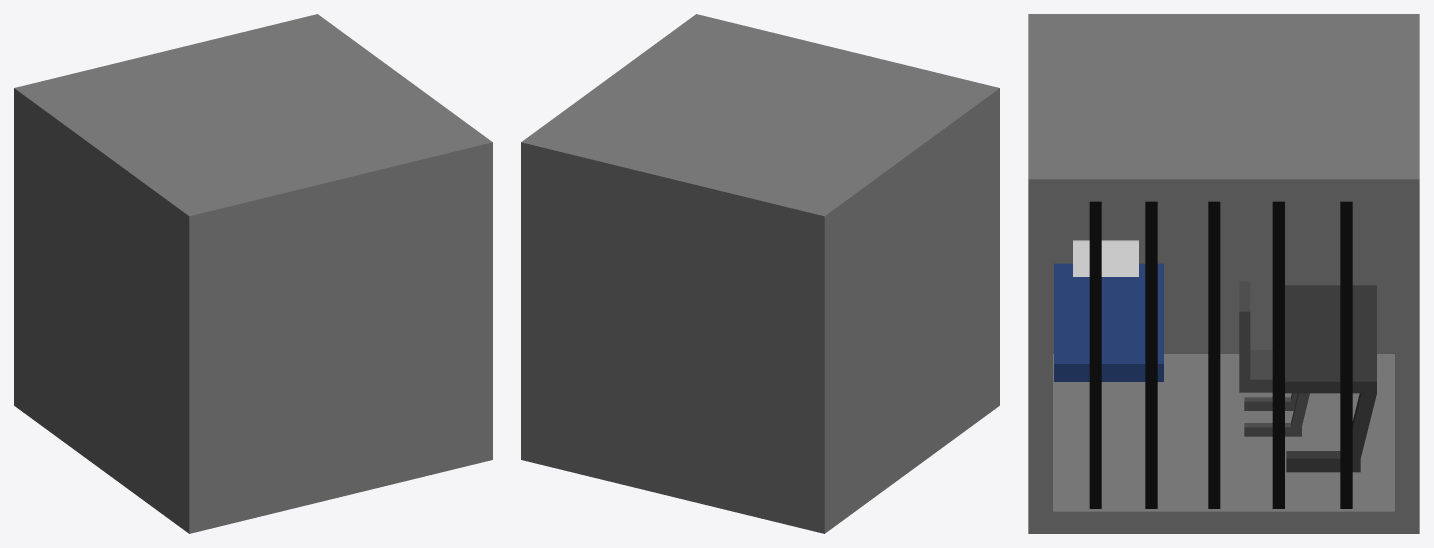
The model's file is jailcell.obj.
3 renders of one model, left to right at view 1: azimuth 30°, elevation 25°; view 2: azimuth 150°, elevation 25°; view 3: azimuth 270°, elevation 25°, orthographic. The views are drawn at different scales.
Parts seen in each view (by area): view 1: walls; view 2: walls; view 3: walls, table:table, bed, bar5, bar2, bar4, bar3, bar1, chair:chair, pillow.
Boxes of the visible parts, x1,y1,x2,y2 form: walls: [14, 14, 492, 533]; walls: [521, 14, 999, 533]; walls: [1028, 14, 1419, 533]; table:table: [1285, 285, 1376, 472]; bed: [1054, 263, 1163, 381]; bar5: [1340, 201, 1352, 508]; bar2: [1145, 201, 1157, 508]; bar4: [1272, 201, 1284, 508]; bar3: [1208, 201, 1220, 508]; bar1: [1089, 201, 1101, 508]; chair:chair: [1239, 281, 1309, 436]; pillow: [1073, 240, 1138, 276].
Size of the model in its own units: 1.31 by 1.31 by 1.31.
